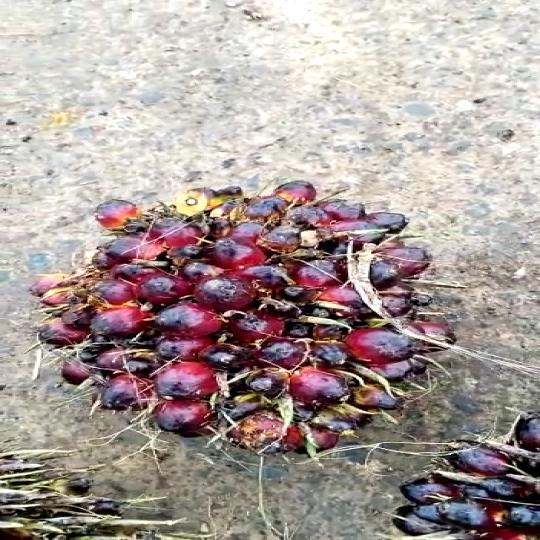kurang masak: (41, 169, 440, 459)
